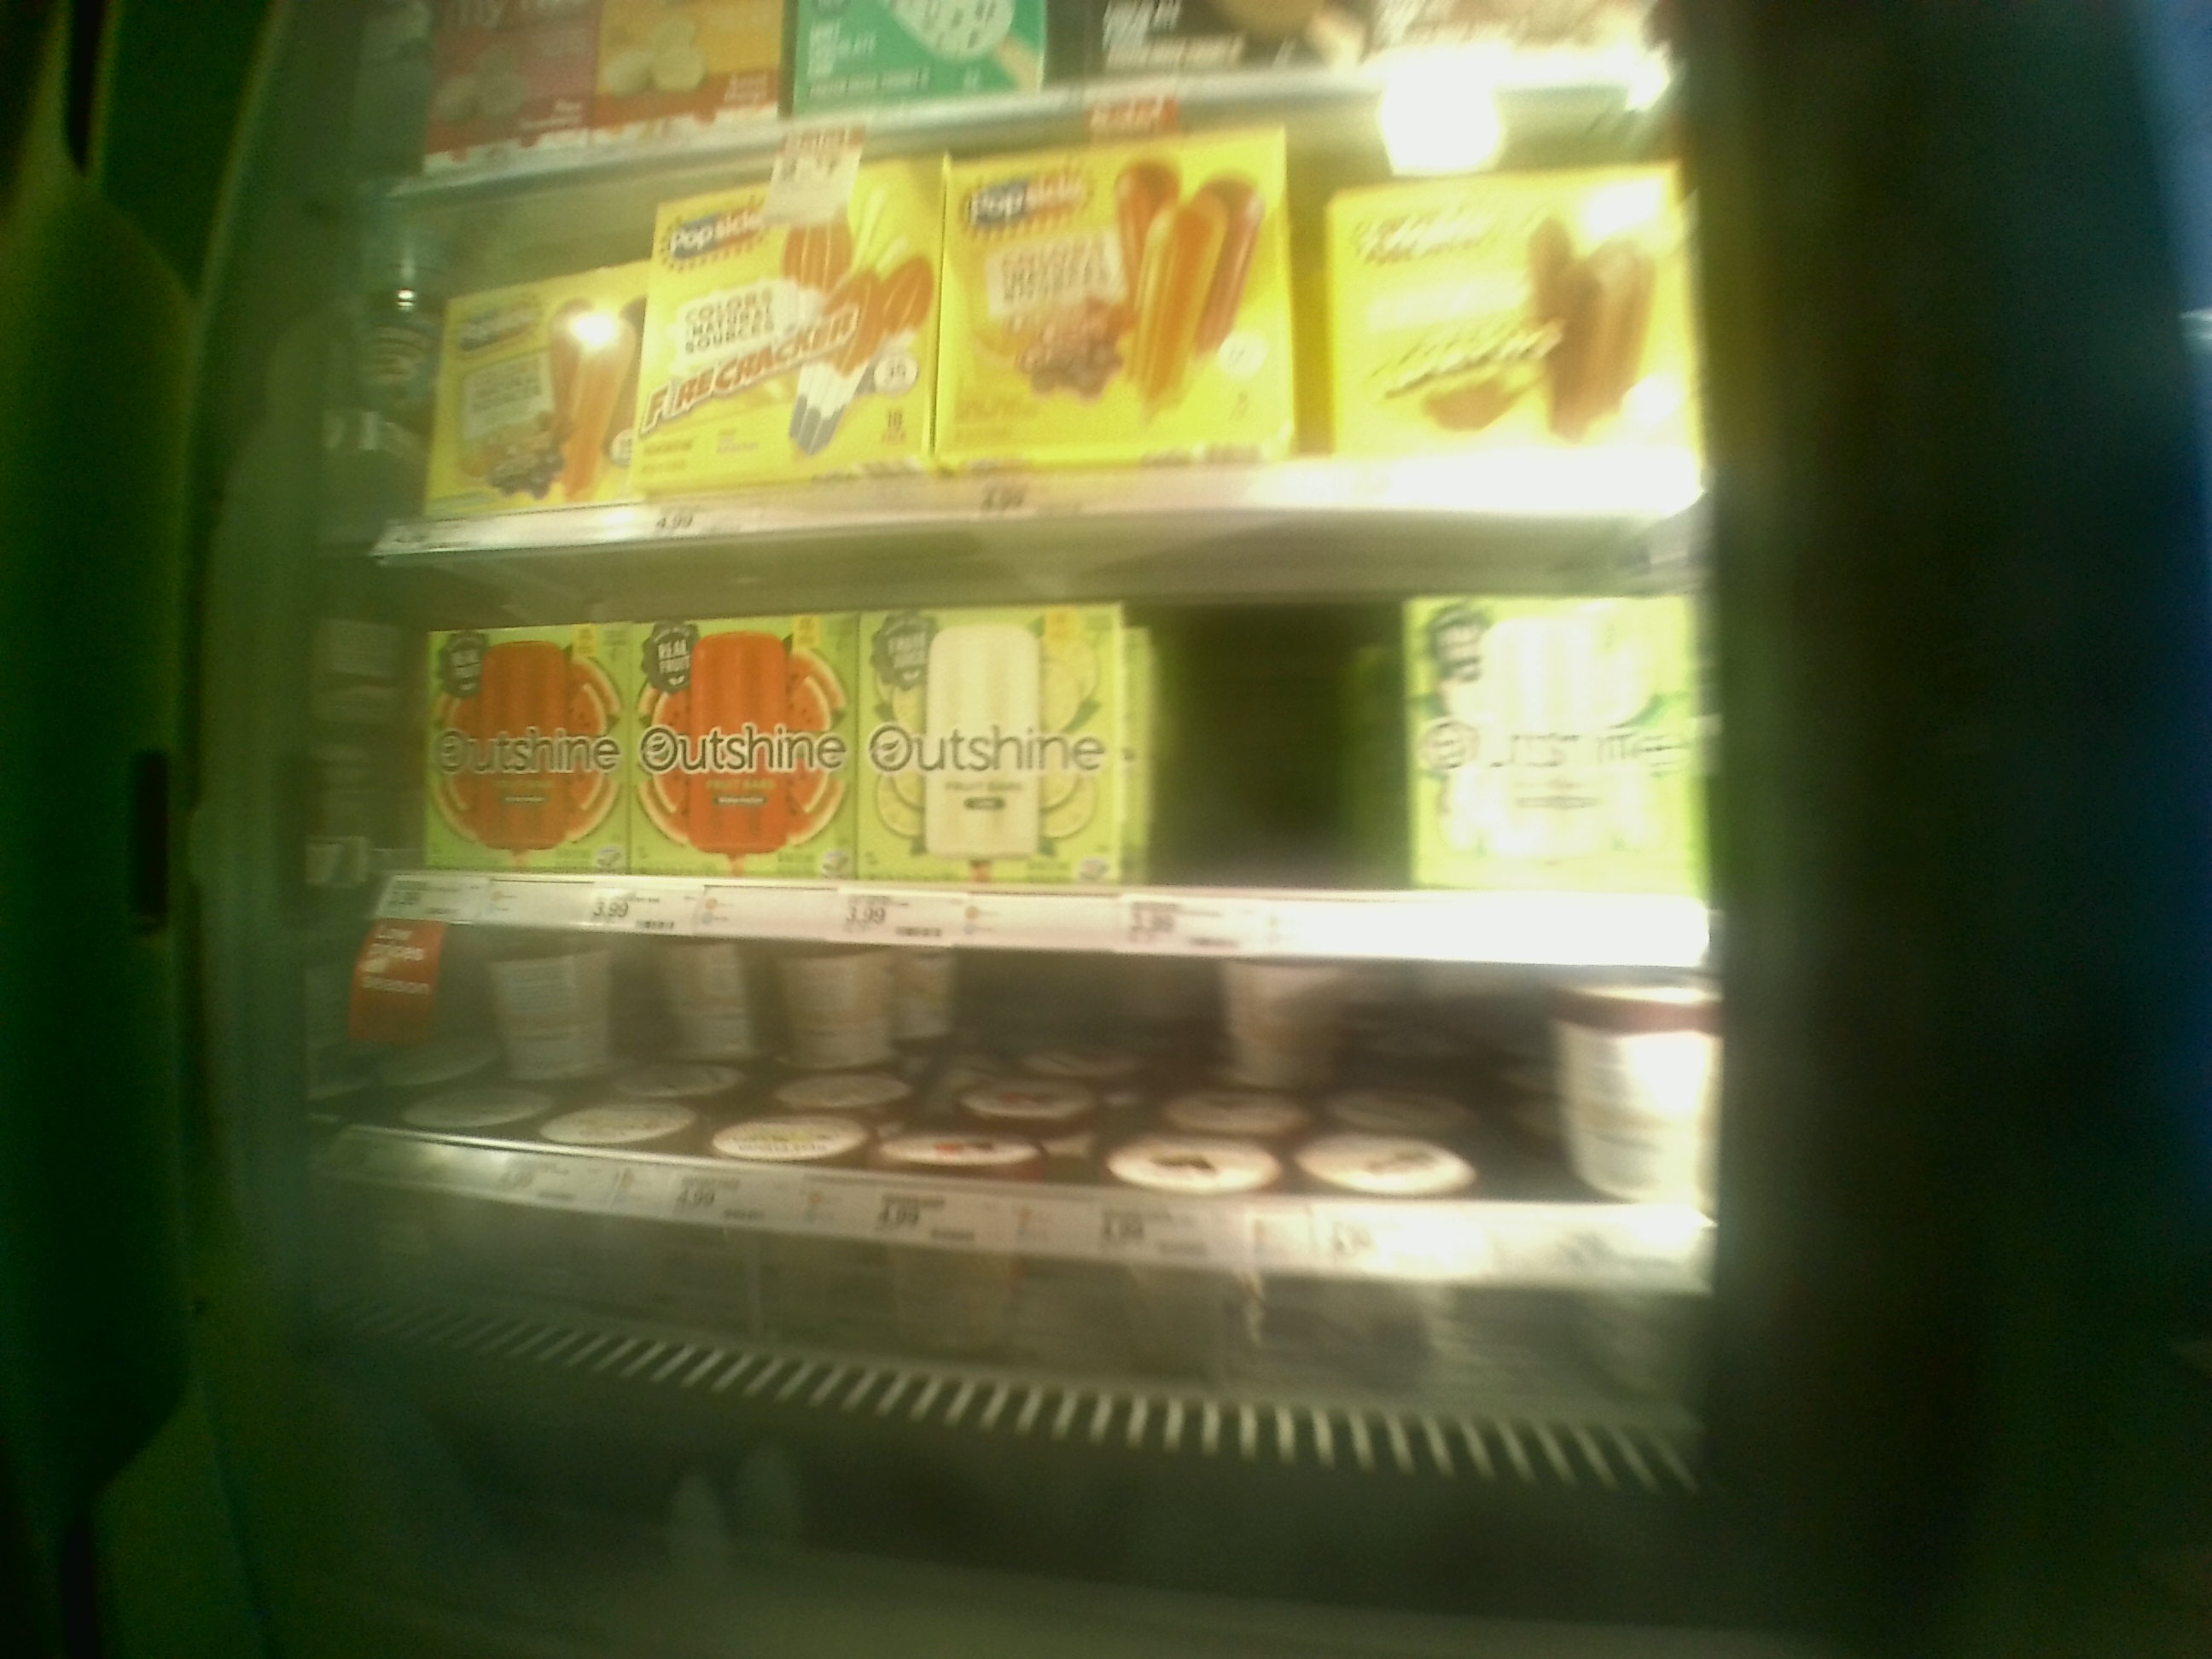ice-cream-shelf: (381, 943, 1709, 1364), (381, 551, 1735, 948)
